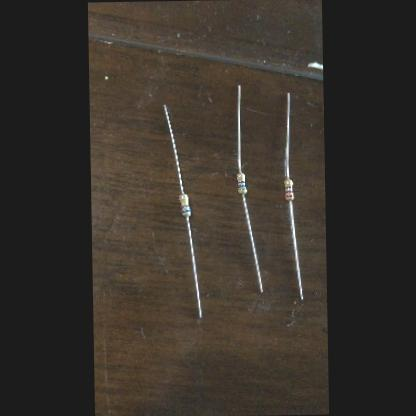resistor: (180, 193, 190, 216), (237, 172, 246, 193), (284, 179, 293, 200)
wire: (242, 193, 263, 291), (164, 104, 184, 193), (186, 216, 202, 318), (288, 200, 302, 298), (236, 85, 242, 172), (284, 92, 290, 178)
